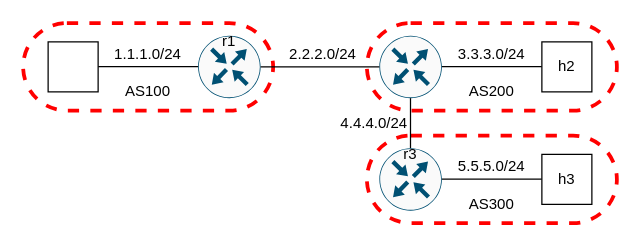
This 640x246 diagram has some shape labels left out. The shapes that lost their labels are listed below. From the top down, each one's box as (x1, y1, x2, y2) in pixels, then its label:
(47, 41, 98, 92): h1
(378, 34, 442, 98): r2
